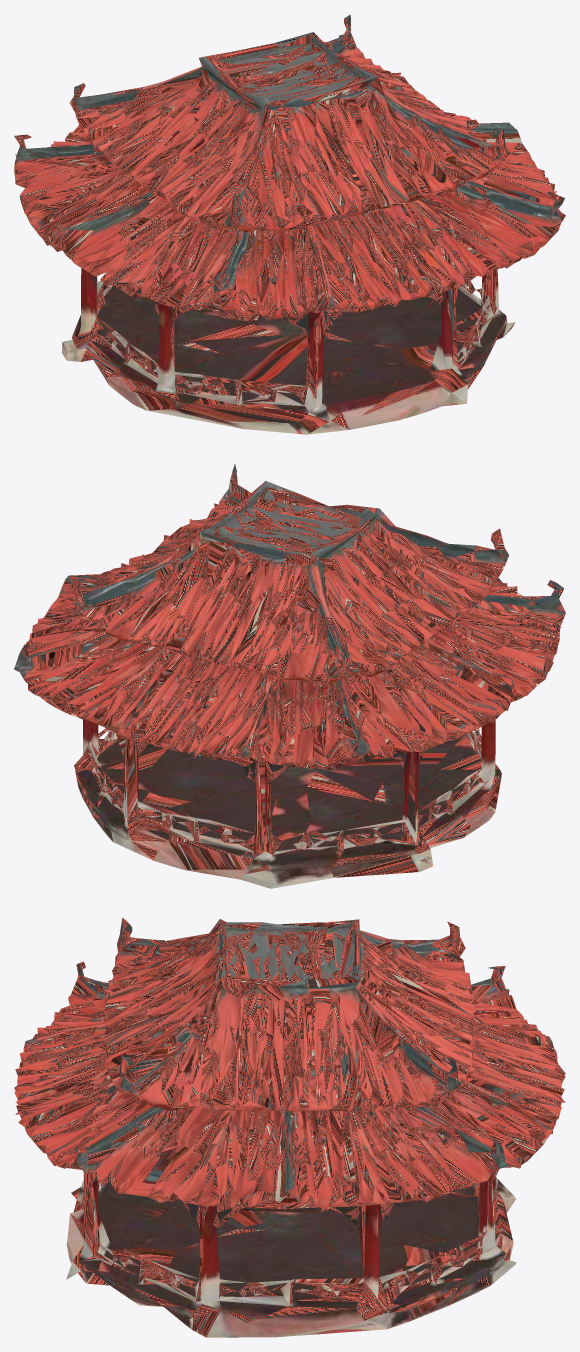
The model's file is lib_garden_pav.mid.glb.
The picture shows the model from 3 angles, top to bottom: view 1: azimuth 30°, elevation 25°; view 2: azimuth 150°, elevation 25°; view 3: azimuth 270°, elevation 25°; orthographic projection. The views are drawn at different scales.
Visible parts, largest first — view 1: output_unwrapped; view 2: output_unwrapped; view 3: output_unwrapped.
Boxes of the visible parts, left/top/right/bottom form: output_unwrapped: left=14, top=14, right=565, bottom=434; output_unwrapped: left=14, top=464, right=565, bottom=888; output_unwrapped: left=14, top=917, right=565, bottom=1337.
Size of the model in its own units: 1.97 by 1.15 by 1.95.
Materials: 1 (1 with a texture image).
